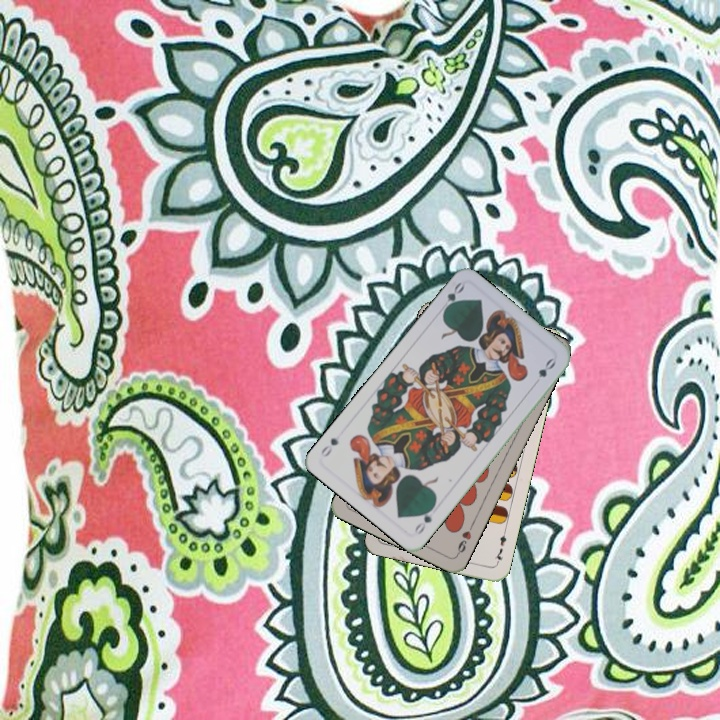E7: (491, 527, 509, 567)
GO: (439, 278, 467, 316), (410, 501, 438, 537)
H9: (452, 520, 476, 558)
